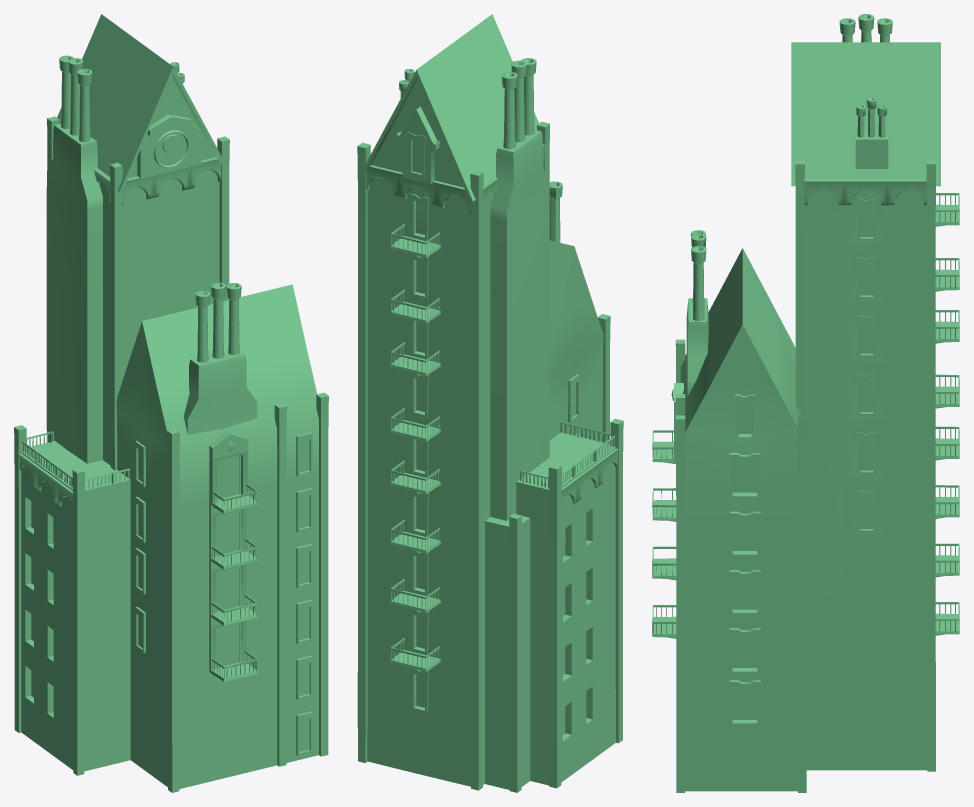
File: Bgr_Building4.fbx
3 renders of one model, left to right at view 1: azimuth 30°, elevation 25°; view 2: azimuth 150°, elevation 25°; view 3: azimuth 270°, elevation 25°, orthographic. The views are drawn at different scales.
Visible parts, largest first — view 1: Bgr_Building4; view 2: Bgr_Building4; view 3: Bgr_Building4.
Part boxes in pixels (x1,y1,x2,y2): Bgr_Building4: (14,14,328,792); Bgr_Building4: (357,14,623,792); Bgr_Building4: (652,14,959,792).
Bounding box in the file's own units: 1811 × 5393 × 2148.
